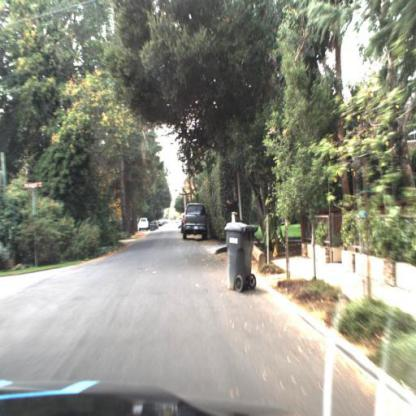car: (182, 203, 209, 239), (136, 213, 150, 237)
